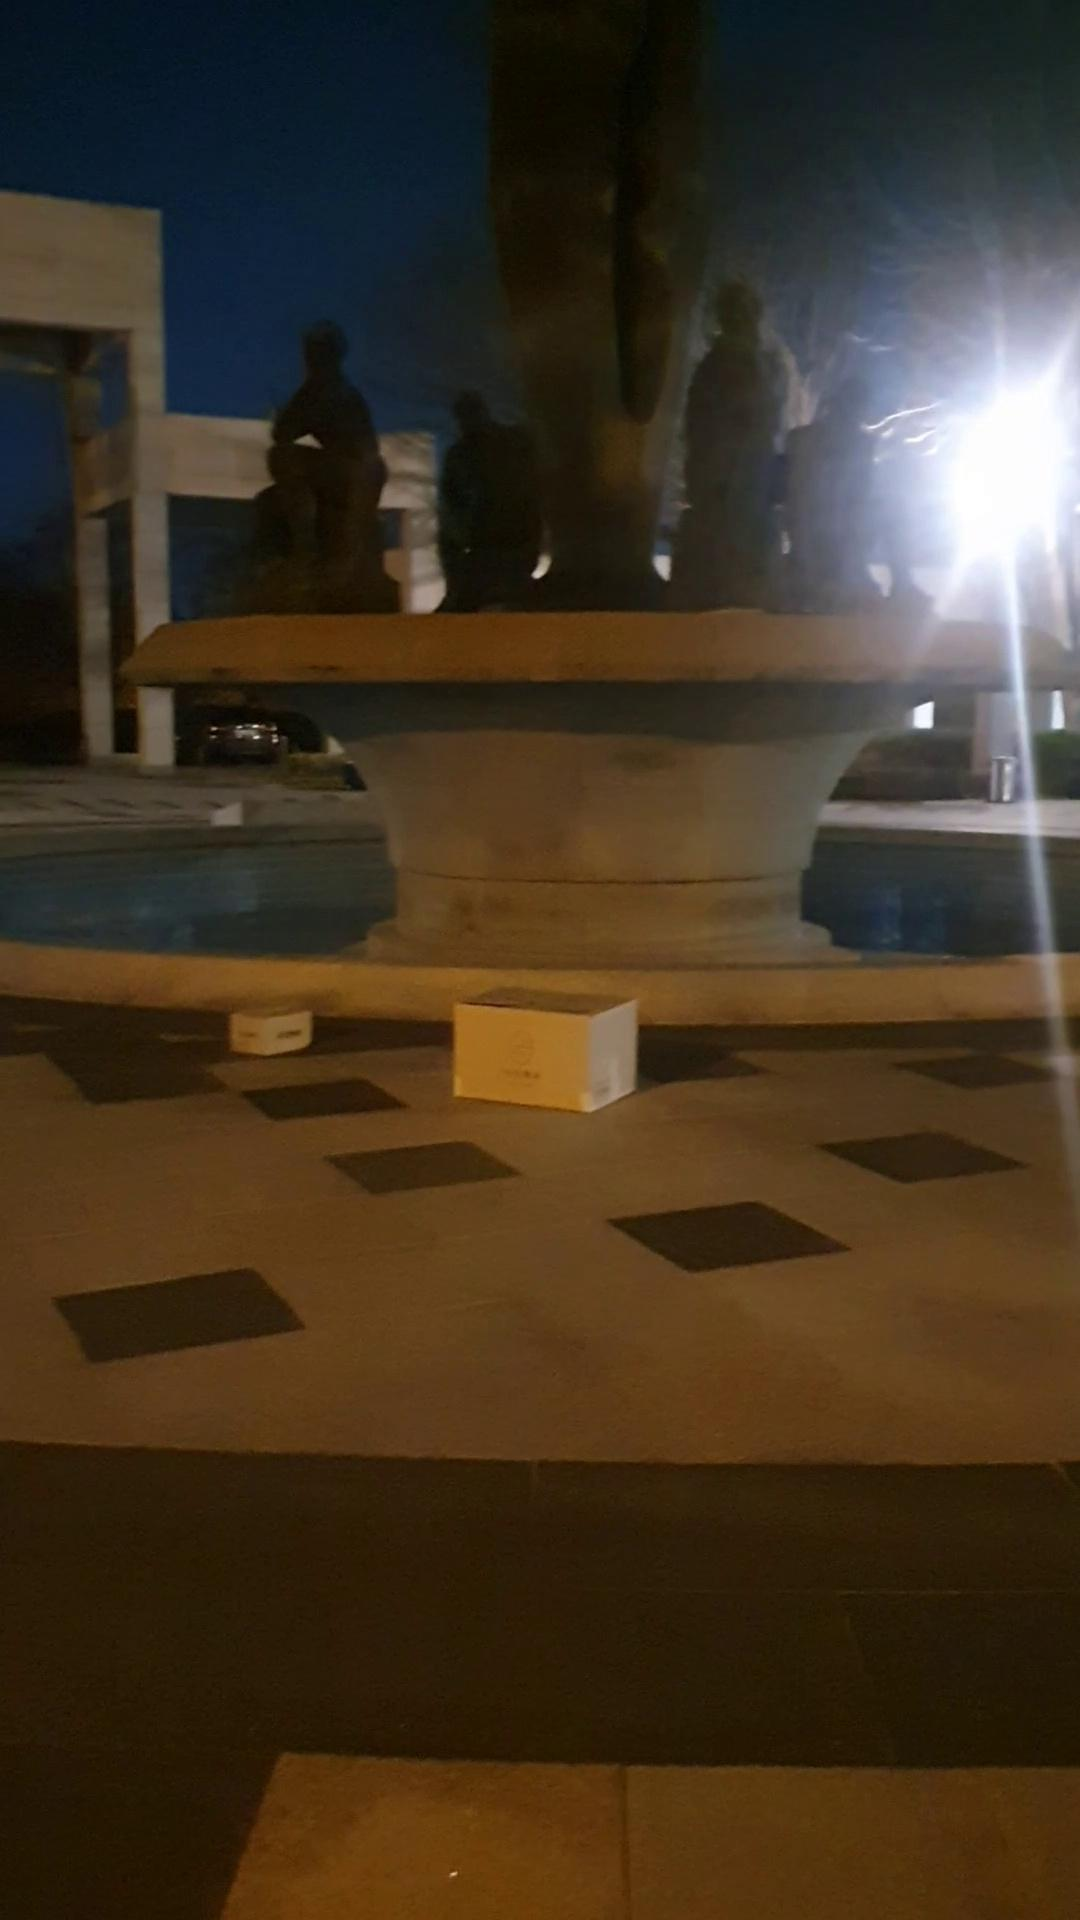Box: (443, 971, 640, 1112), (216, 998, 324, 1055)
